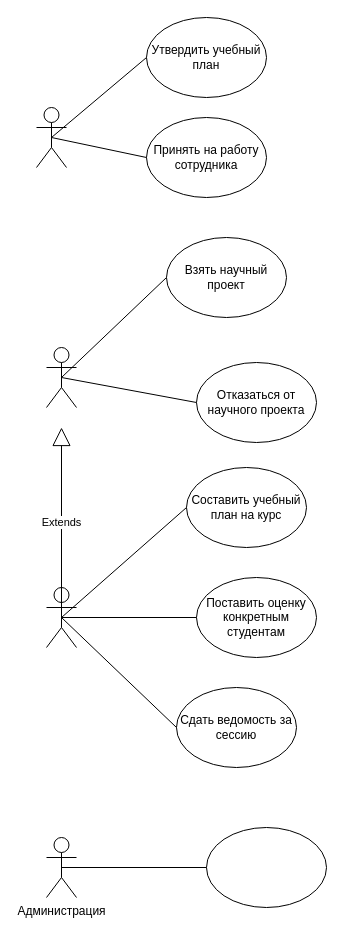
This 344x936 diagram has some shape labels left out. Each missing label, with the box of its shape:
Декан: (36, 106, 66, 168)
Исследователь: (46, 346, 76, 408)
Лектор: (46, 586, 76, 648)
Создать отчет: (206, 826, 326, 908)
